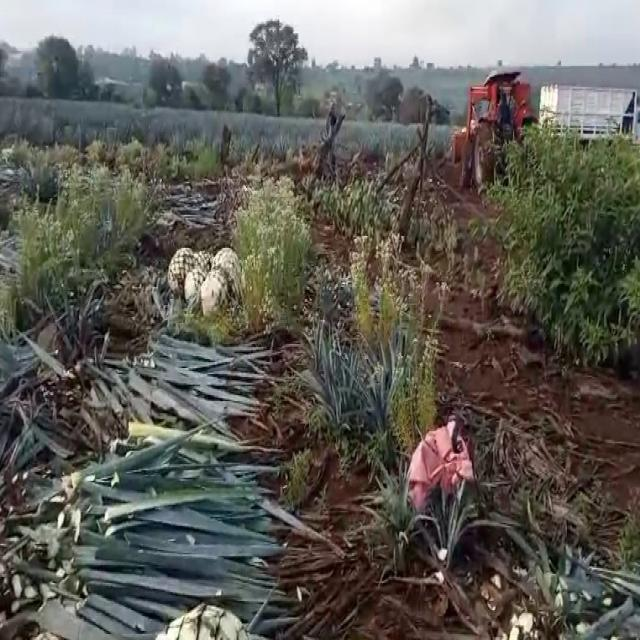agave: (134, 596, 259, 640), (166, 245, 197, 298), (197, 268, 228, 318), (214, 243, 241, 294), (192, 242, 215, 285), (184, 268, 207, 300)
